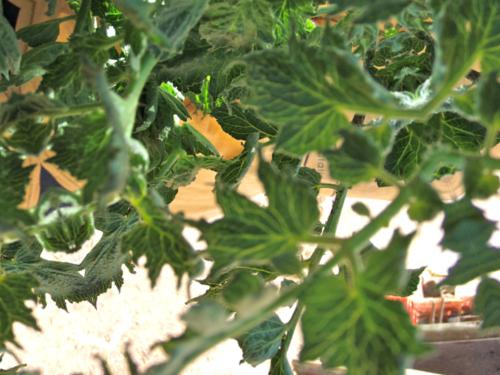Tomato leaf mosaic virus: (272, 216, 463, 375), (230, 27, 367, 172), (196, 164, 336, 295), (113, 196, 204, 302), (39, 101, 136, 194), (193, 77, 283, 167), (239, 344, 319, 375)
